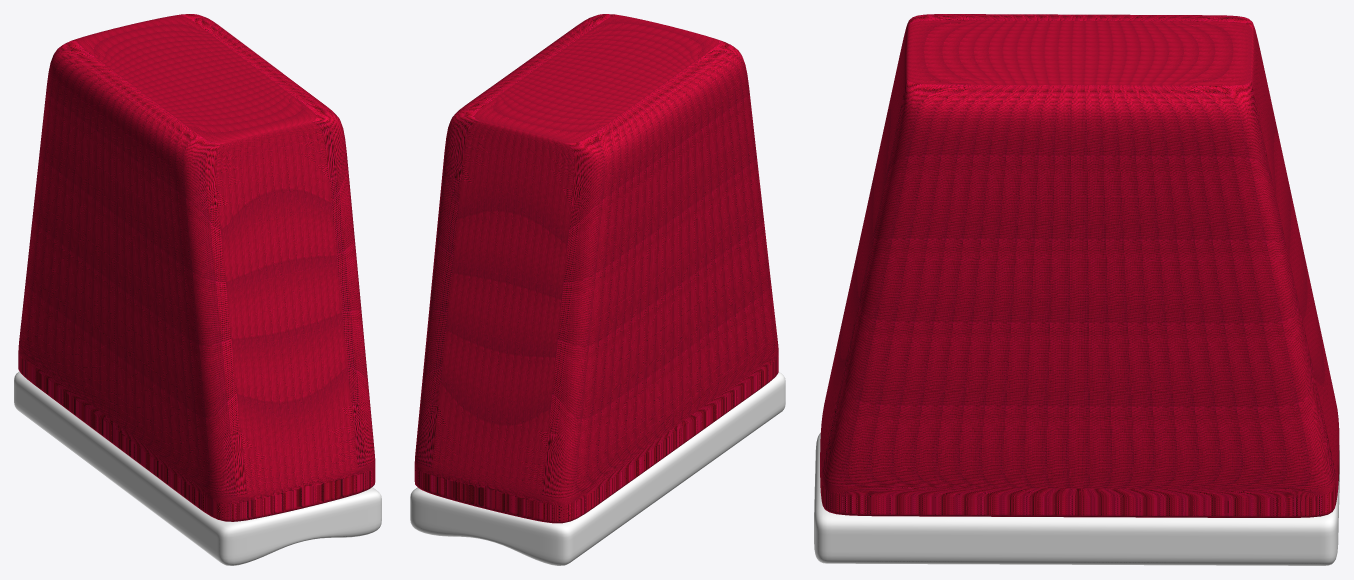
File: torso.obj
The picture shows the model from 3 angles, left to right: view 1: azimuth 30°, elevation 25°; view 2: azimuth 150°, elevation 25°; view 3: azimuth 270°, elevation 25°; orthographic projection. The views are drawn at different scales.
Parts seen in each view (by area): view 1: kevin:Box005; view 2: kevin:Box005; view 3: kevin:Box005.
Boxes of the visible parts, <box> form: kevin:Box005: <box>14,14,381,565</box>; kevin:Box005: <box>410,14,785,565</box>; kevin:Box005: <box>814,14,1339,565</box>.
Size of the model in its own units: 0.5672 by 1.28 by 1.29.
Materials: 2 (2 with a texture image).
